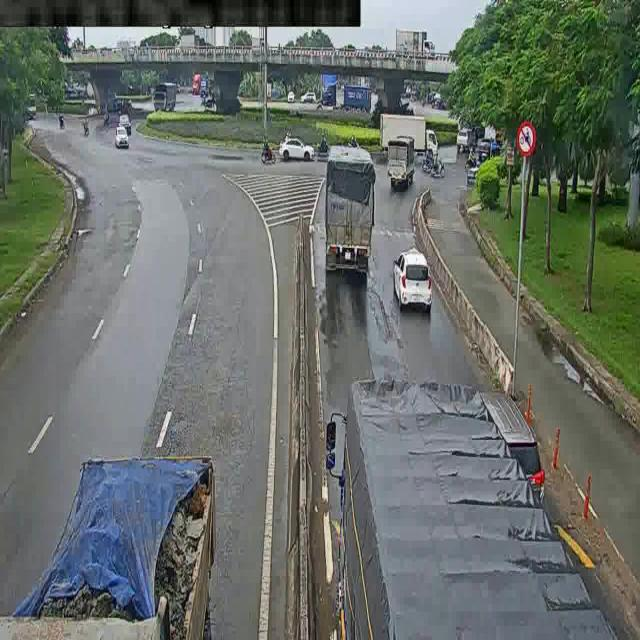car: (474, 379, 551, 499), (386, 243, 448, 318), (283, 140, 313, 165), (111, 125, 131, 148), (119, 111, 134, 135)
motorbike: (259, 143, 287, 168), (53, 112, 67, 128), (80, 117, 92, 132)
truck: (308, 371, 615, 640), (1, 433, 230, 640), (318, 136, 378, 278), (372, 101, 458, 167), (385, 132, 418, 192), (319, 82, 370, 120), (153, 81, 175, 113)
